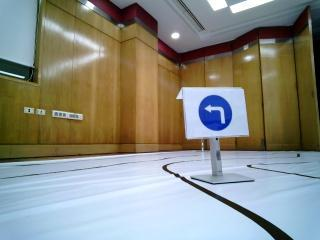left: (187, 89, 248, 135)
